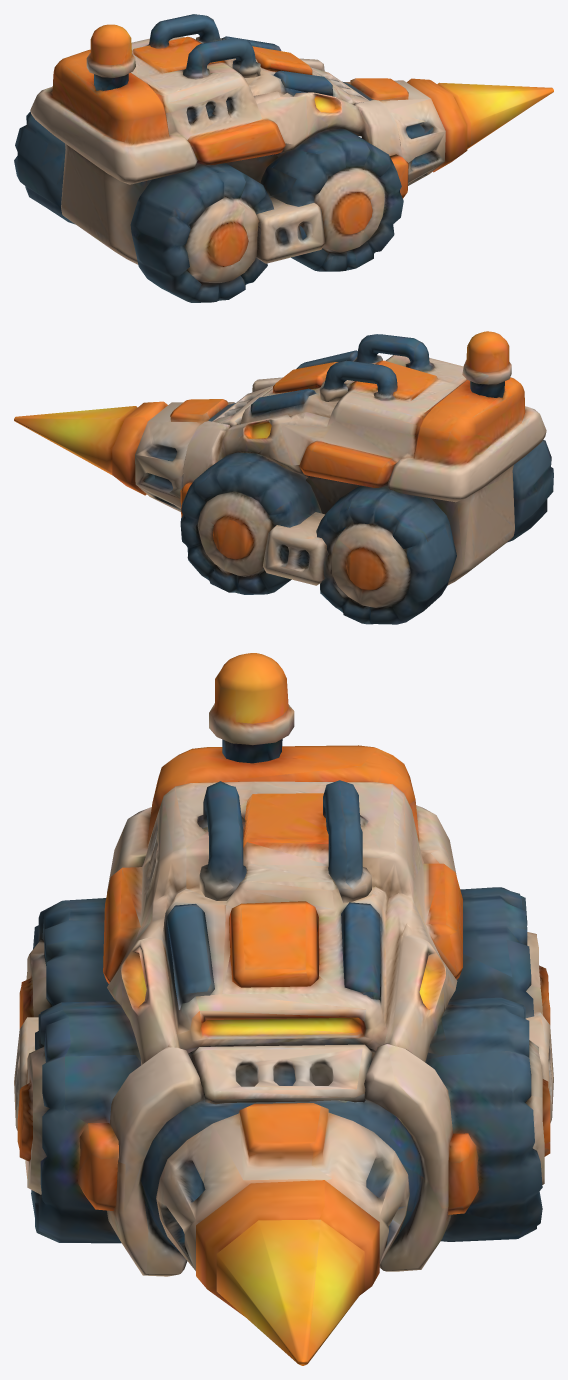
Rendered from steel_siege.glb.
3 views of the same model, one above another, from view 1: azimuth 30°, elevation 25°; view 2: azimuth 150°, elevation 25°; view 3: azimuth 270°, elevation 25° (orthographic). The views are drawn at different scales.
Parts seen in each view (by area): view 1: tripo_node_4140eefa-095f-4d2a-83fa-39196c53e223; view 2: tripo_node_4140eefa-095f-4d2a-83fa-39196c53e223; view 3: tripo_node_4140eefa-095f-4d2a-83fa-39196c53e223.
Part boxes in pixels (x1,y1,x2,y2): tripo_node_4140eefa-095f-4d2a-83fa-39196c53e223: (14, 14, 553, 302); tripo_node_4140eefa-095f-4d2a-83fa-39196c53e223: (14, 331, 553, 624); tripo_node_4140eefa-095f-4d2a-83fa-39196c53e223: (14, 653, 553, 1365).
Bounding box in the file's own units: 0.998 × 0.4902 × 0.5566.
Materials: 1 (1 with a texture image).
